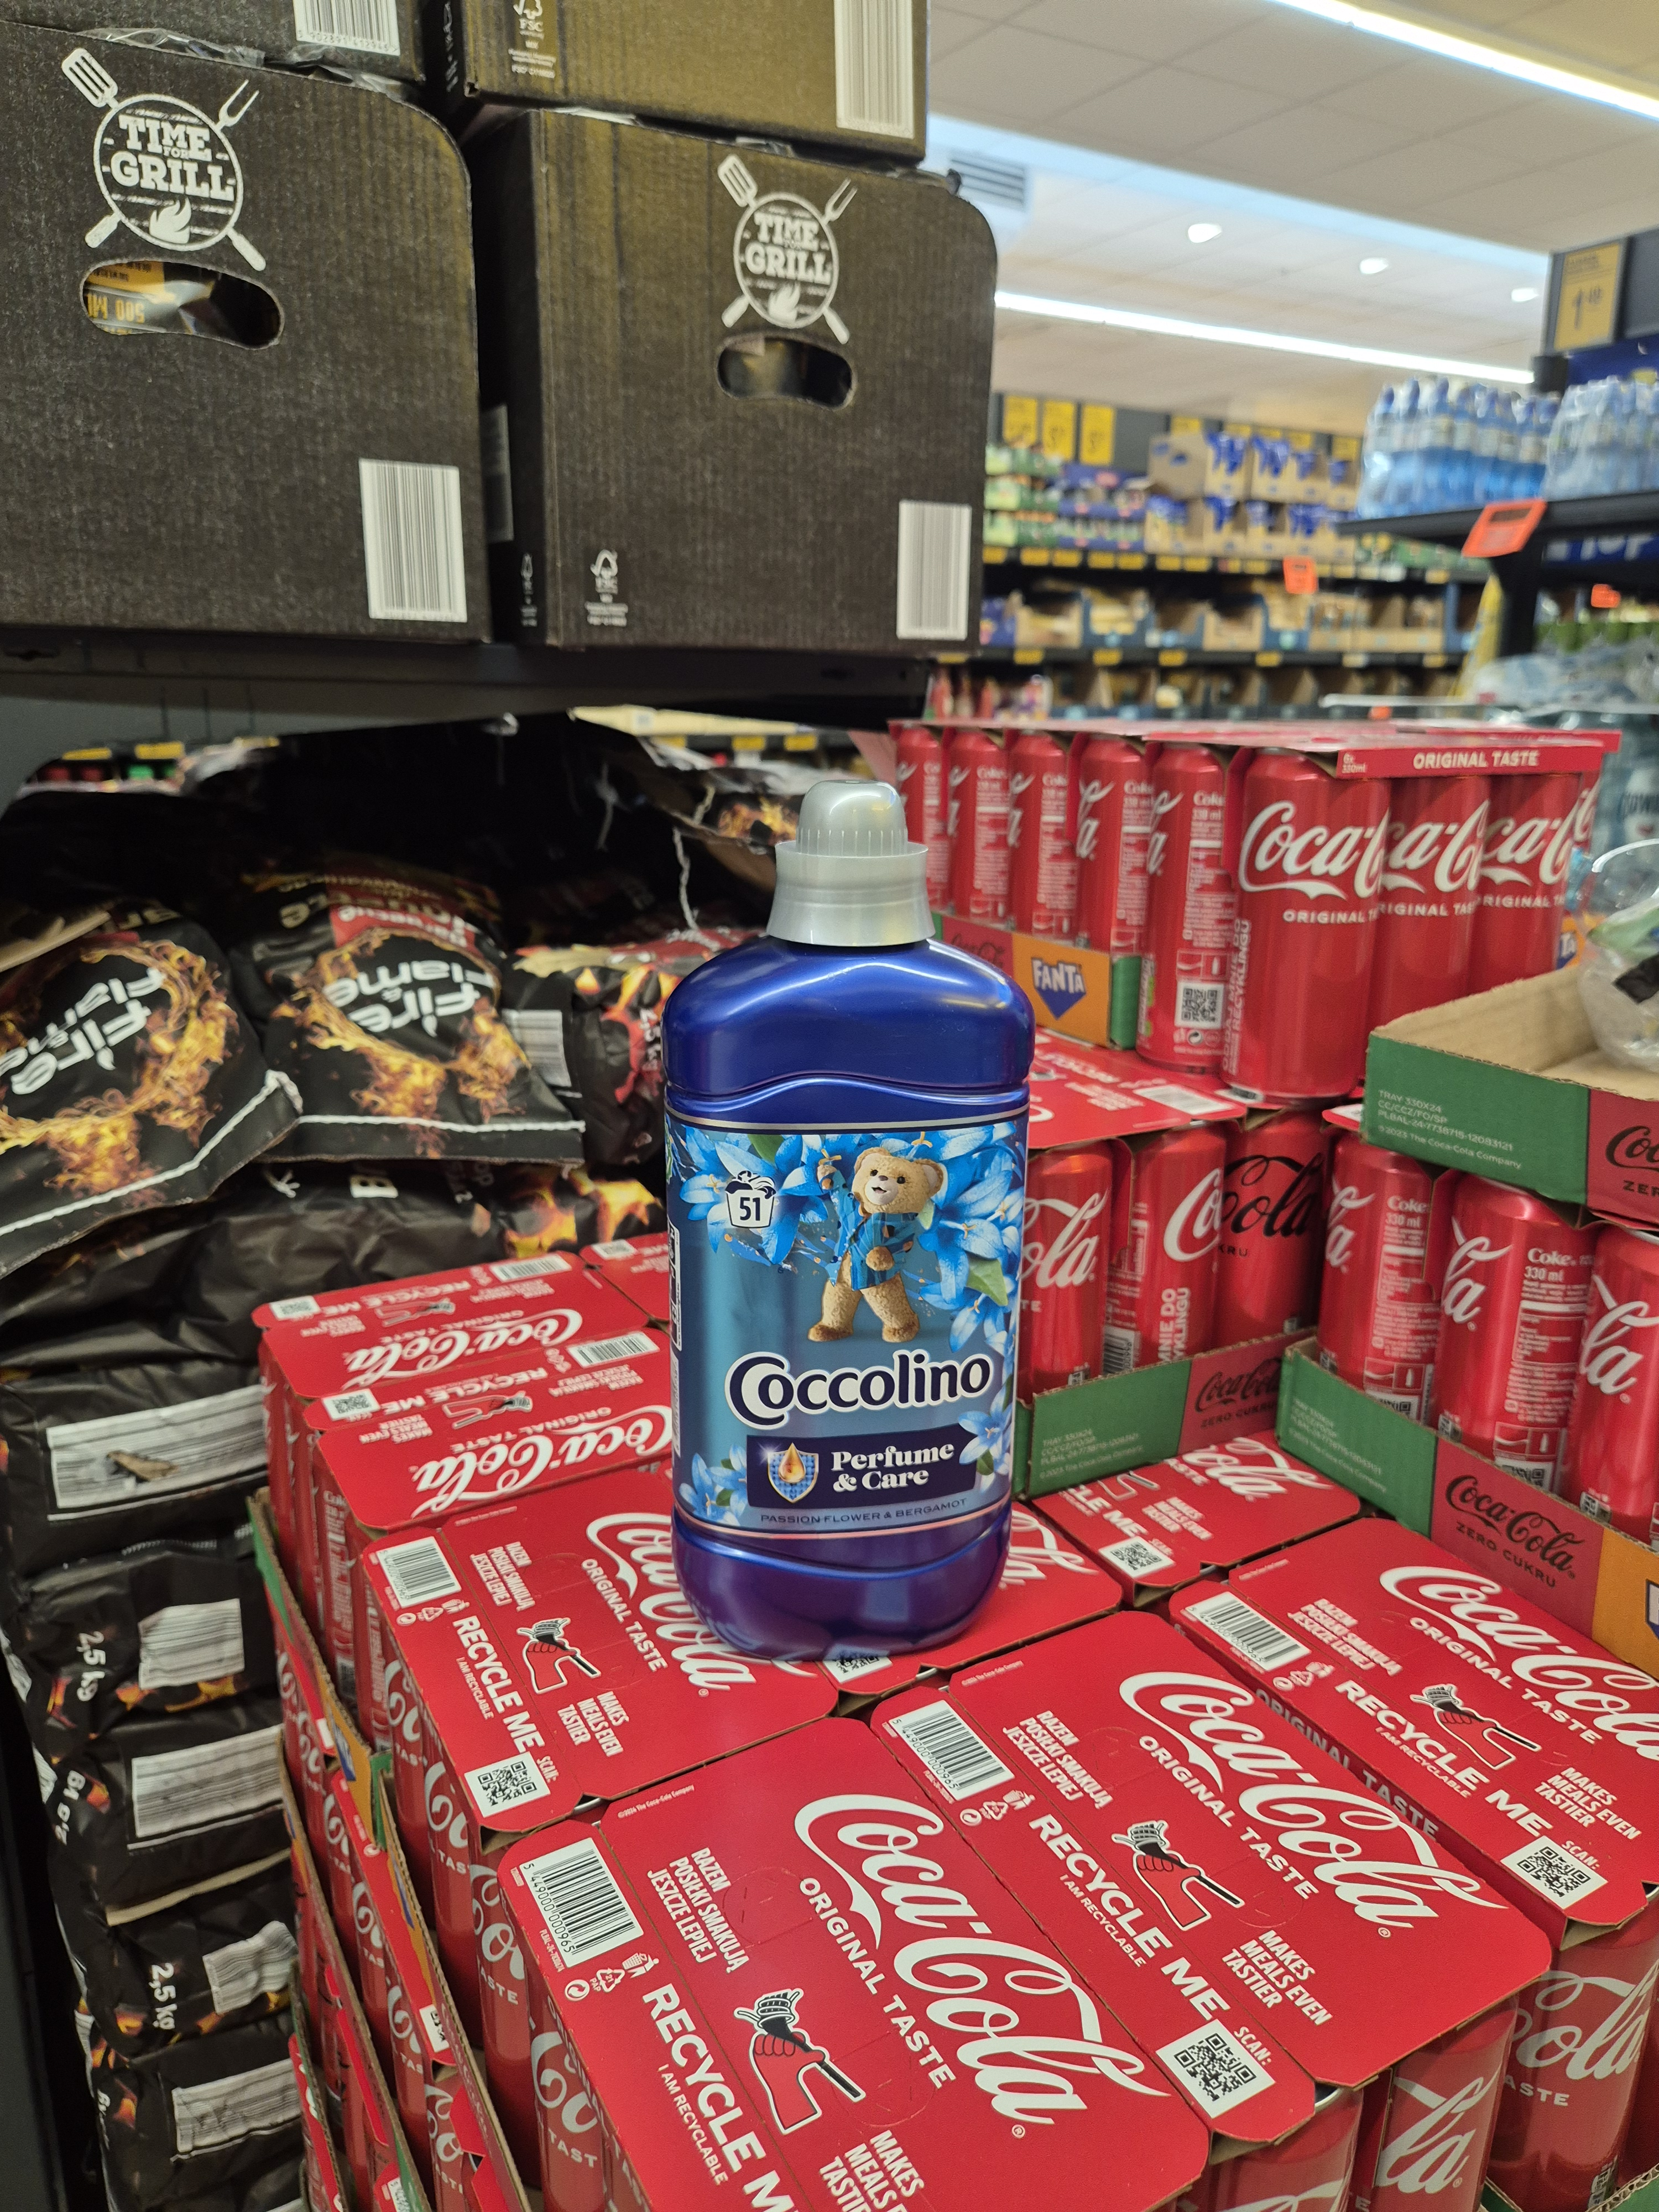cocolino: (667, 779, 1028, 1672)
